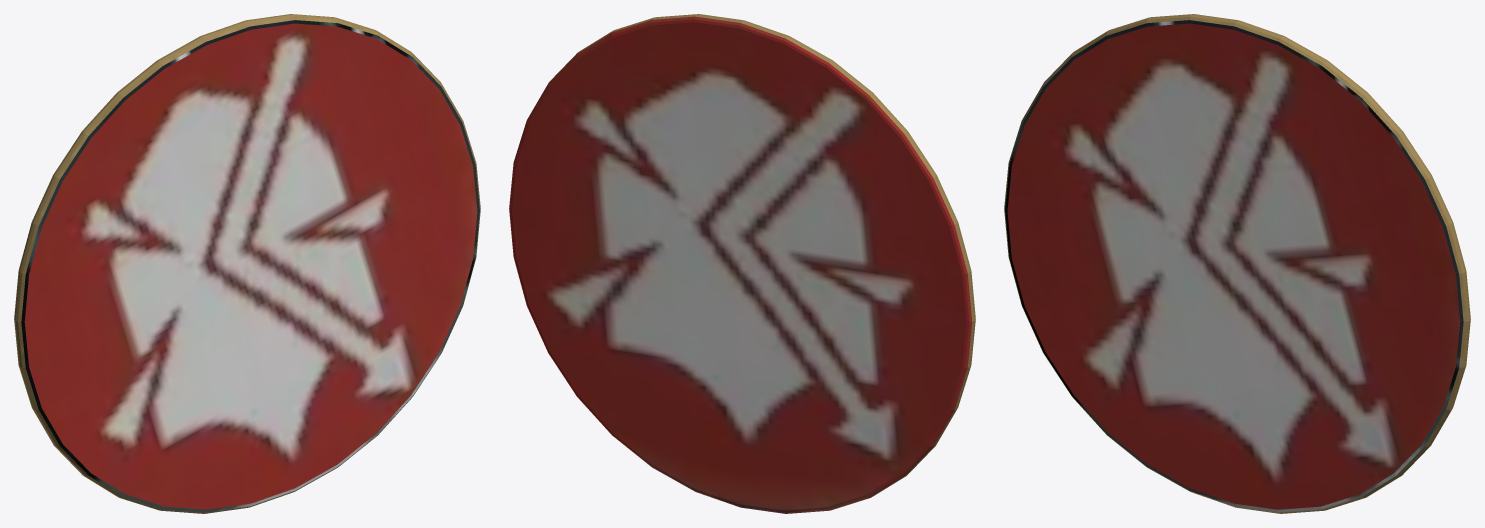
File: Retribution Coin.001.fbx
3 views of the same model, side by side, from view 1: azimuth 30°, elevation 25°; view 2: azimuth 150°, elevation 25°; view 3: azimuth 330°, elevation 25° (orthographic).
Parts seen in each view (by area): view 1: Circle.011; view 2: Circle.011; view 3: Circle.011.
Part boxes in pixels (<box>): Circle.011: <box>14,14,480,513</box>; Circle.011: <box>509,14,975,513</box>; Circle.011: <box>1004,14,1470,513</box>.
Bounding box in the file's own units: 116 × 116 × 2.96.
Materials: 2 (2 with a texture image).
